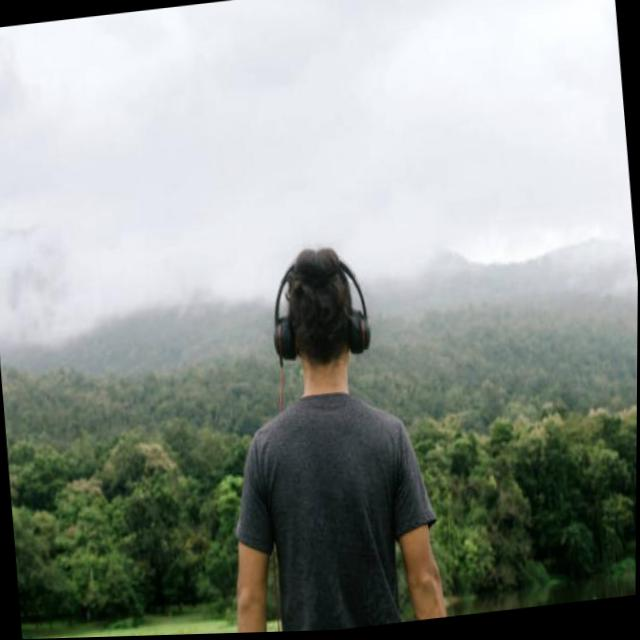no helmet: (246, 204, 395, 424)
